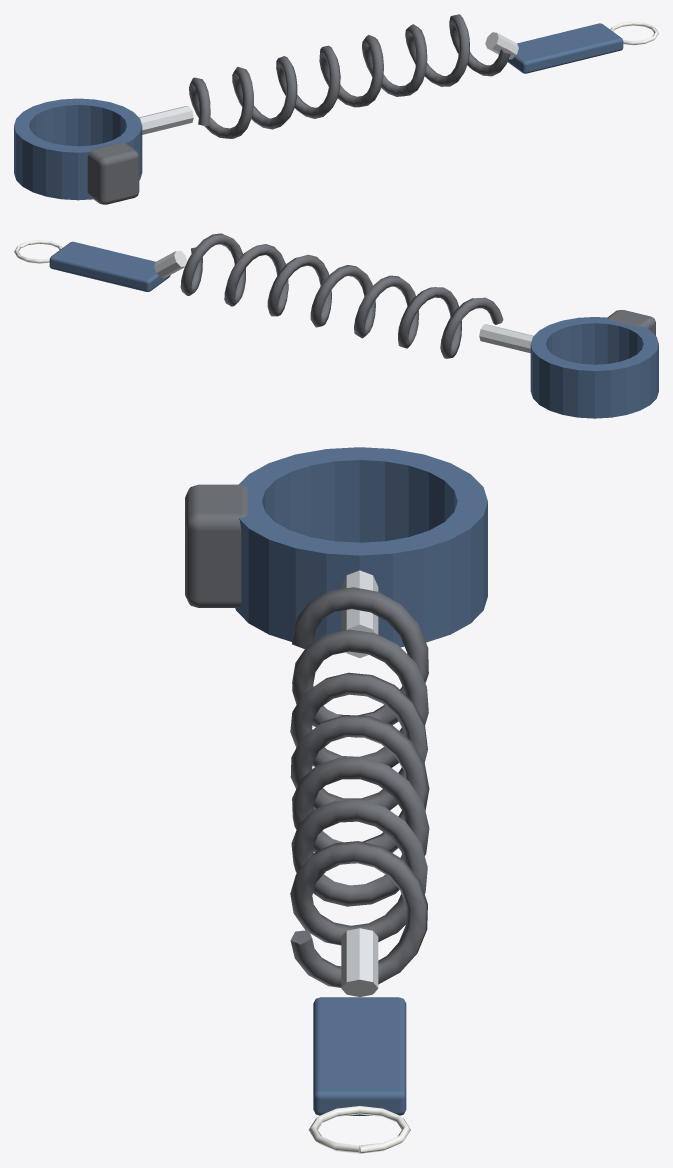
Rendered from beach-surf-and-paddle-kit-surf-leash-840ca19a__39450.glb.
3 renders of one model, top to bottom at view 1: azimuth 30°, elevation 25°; view 2: azimuth 150°, elevation 25°; view 3: azimuth 270°, elevation 25°, orthographic. The views are drawn at different scales.
Parts seen in each view (by area): view 1: surf-leash-navy, surf-leash-charcoal, surf-leash-steel, surf-leash-foam; view 2: surf-leash-navy, surf-leash-charcoal, surf-leash-steel, surf-leash-foam; view 3: surf-leash-navy, surf-leash-charcoal, surf-leash-steel, surf-leash-foam.
Part boxes in pixels (<box>): surf-leash-navy: <box>14,23,623,200</box>; surf-leash-charcoal: <box>87,14,511,204</box>; surf-leash-steel: <box>139,32,518,134</box>; surf-leash-foam: <box>610,21,658,45</box>; surf-leash-navy: <box>49,241,658,418</box>; surf-leash-charcoal: <box>180,233,655,358</box>; surf-leash-steel: <box>154,250,533,353</box>; surf-leash-foam: <box>14,240,62,263</box>; surf-leash-navy: <box>235,447,487,1115</box>; surf-leash-charcoal: <box>185,484,429,987</box>; surf-leash-steel: <box>341,570,378,996</box>; surf-leash-foam: <box>308,1106,410,1153</box>.
Size of the model in its own units: 0.6269 by 0.06 by 0.13.
